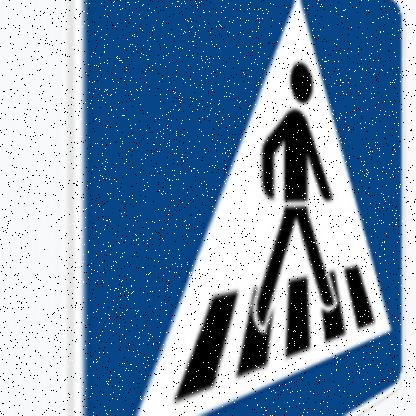Pedestrian Crossing: (71, 1, 412, 416)
